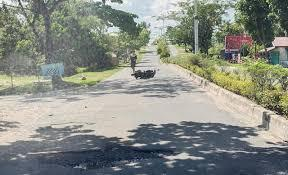Pothole: (35, 148, 177, 172)
